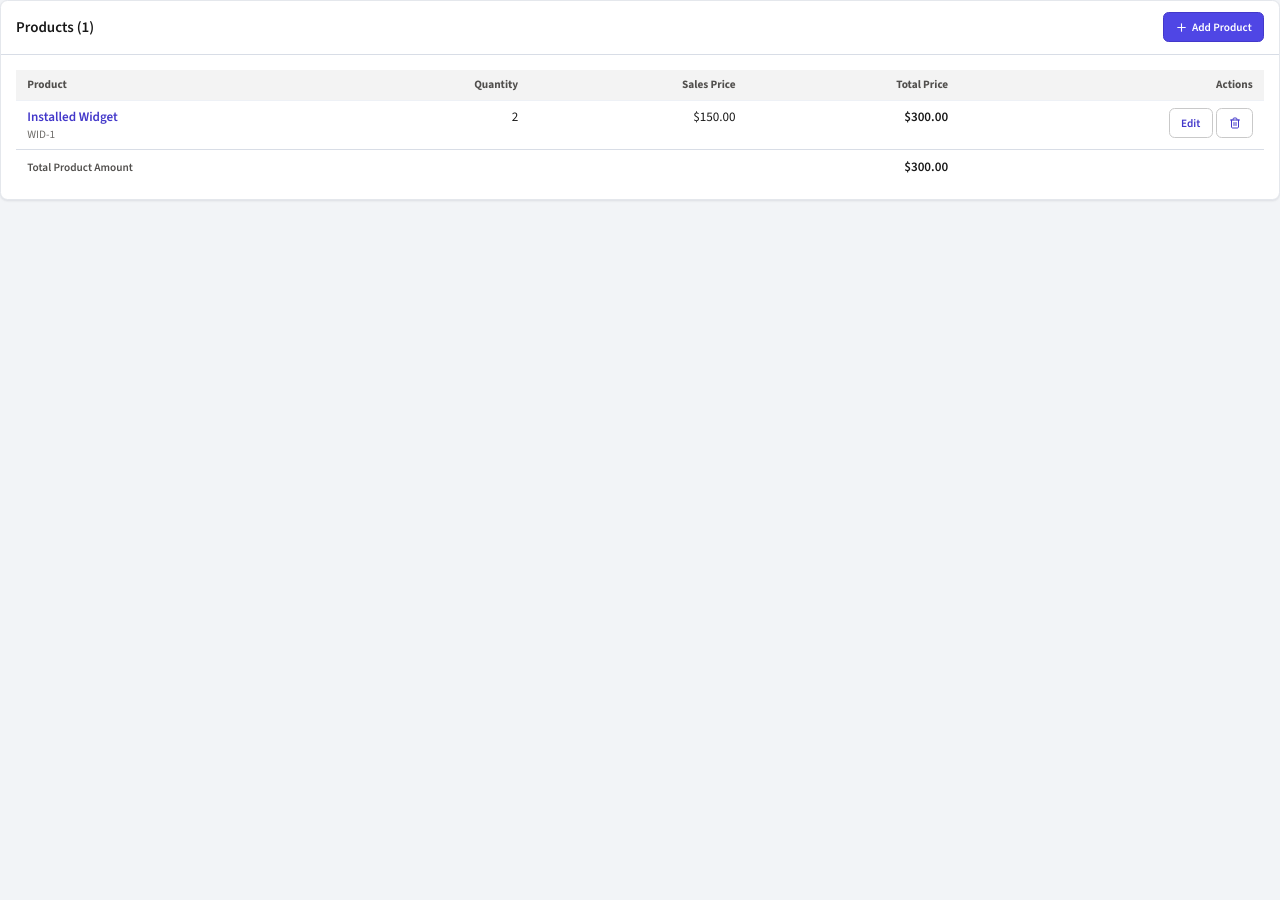
Product lines card › hides products that are already assigned
The image size is (1280, 900).
Step 1. Click the button "Add Product" → (1214, 27), box 1163,12 -> 1264,42
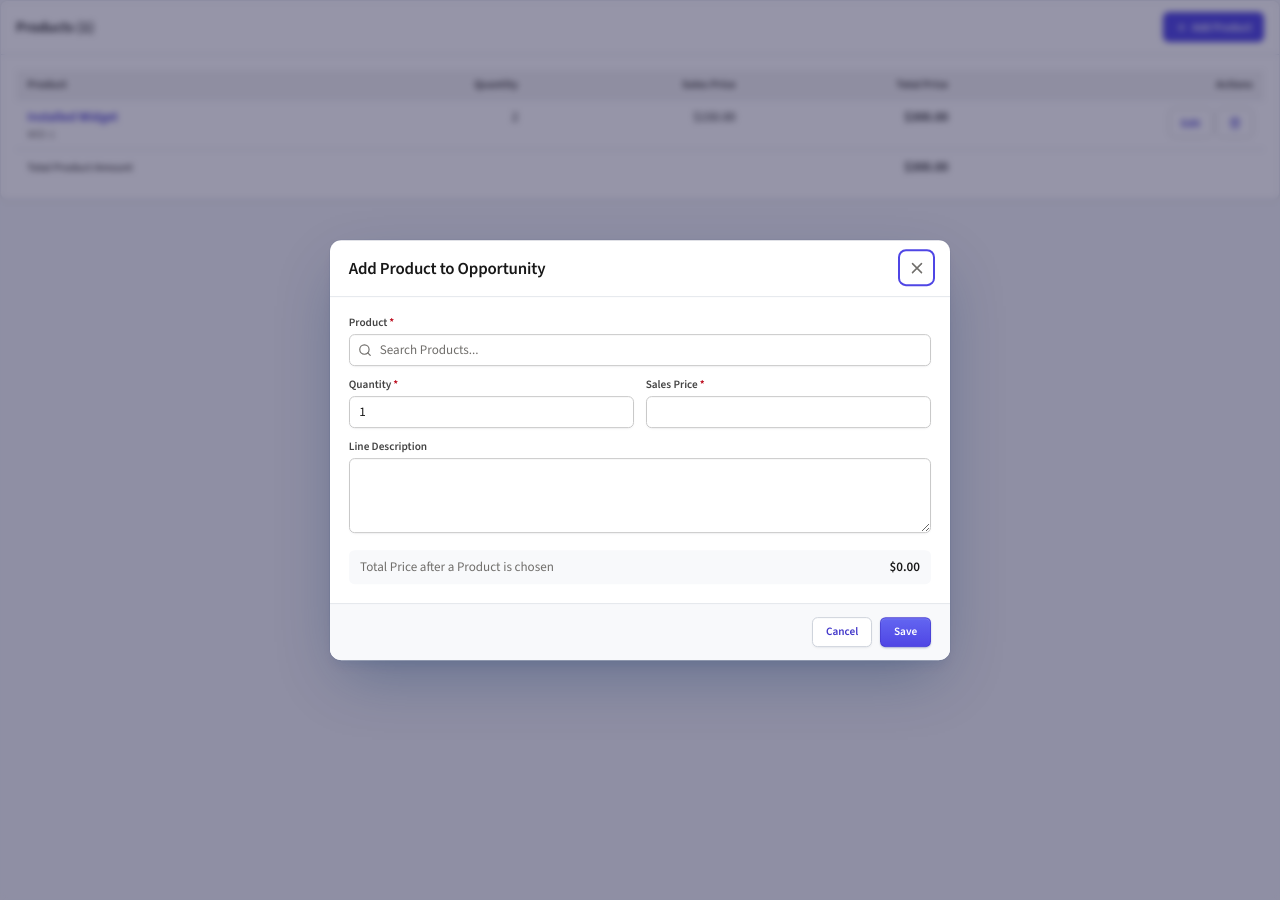
Step 2. Click the dropdown labelled "Product*" → (640, 350), box 349,334 -> 931,366
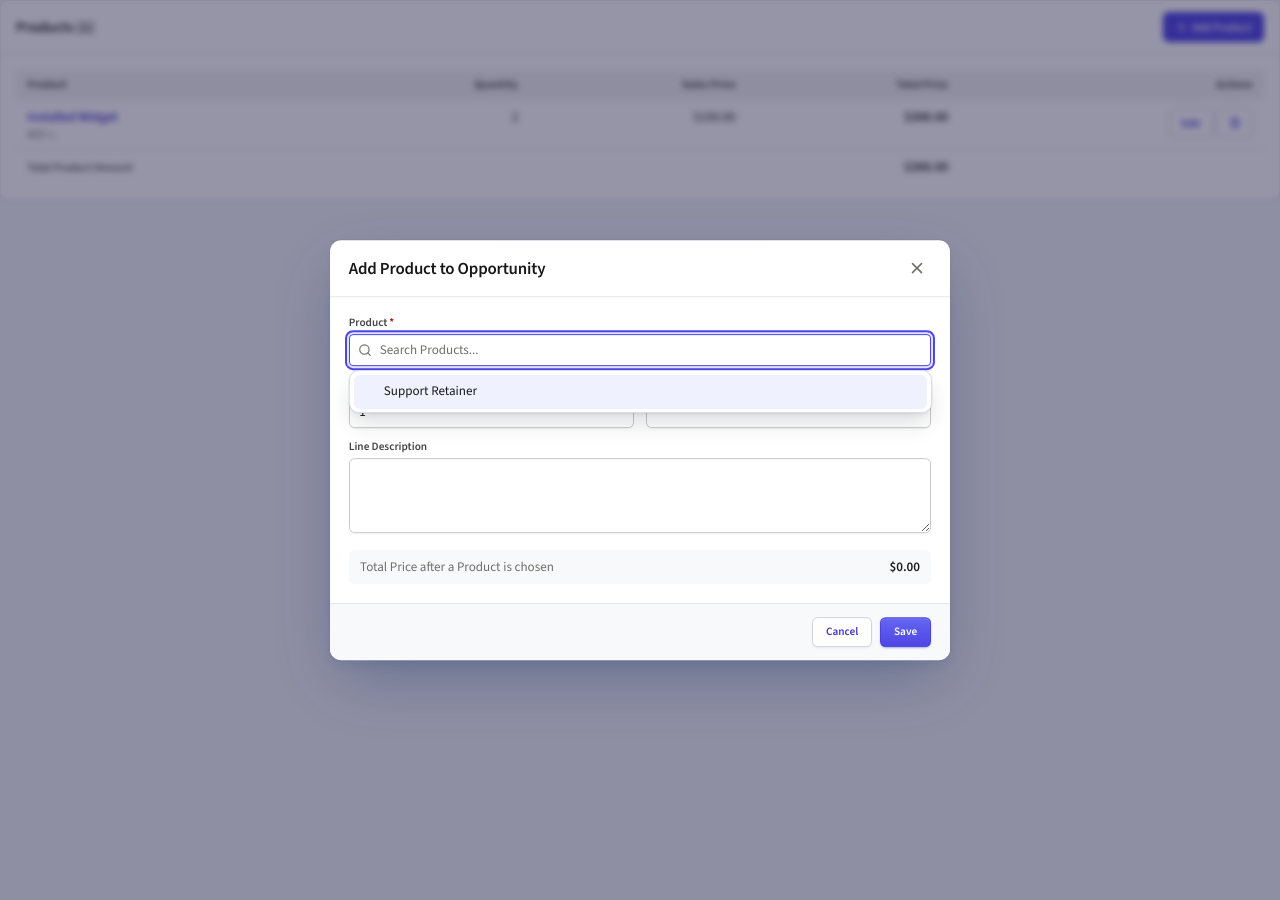
Now the option "Support Retainer" is shown, box 354,375 -> 927,409
